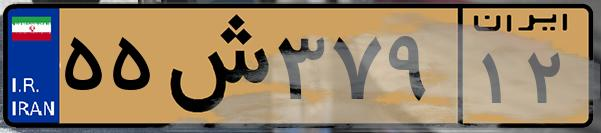1: (475, 38, 525, 113)
2: (525, 38, 570, 115)
3: (270, 28, 330, 110)
5: (57, 26, 110, 100), (110, 28, 158, 98)
7: (330, 28, 385, 110)
9: (385, 28, 445, 110)
ش: (158, 12, 270, 120)
